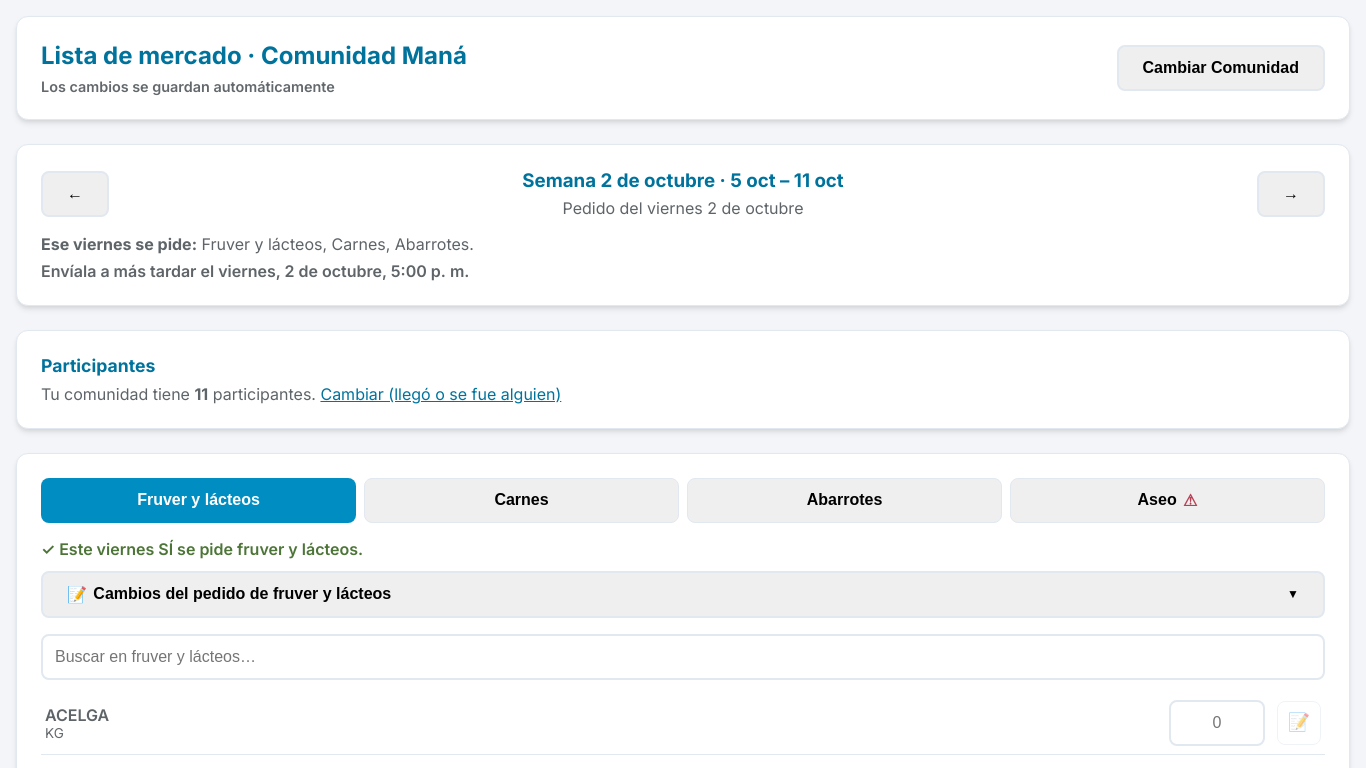
Test: lista de mercado: sin internet › si falla algo que repetir no arregla (validación), igual no queda reintentando para siempre
Type "2" into the field labelled "ACELGA KG" at (1217, 723), box [1169, 700, 1265, 746]
Wait 1800700 ms
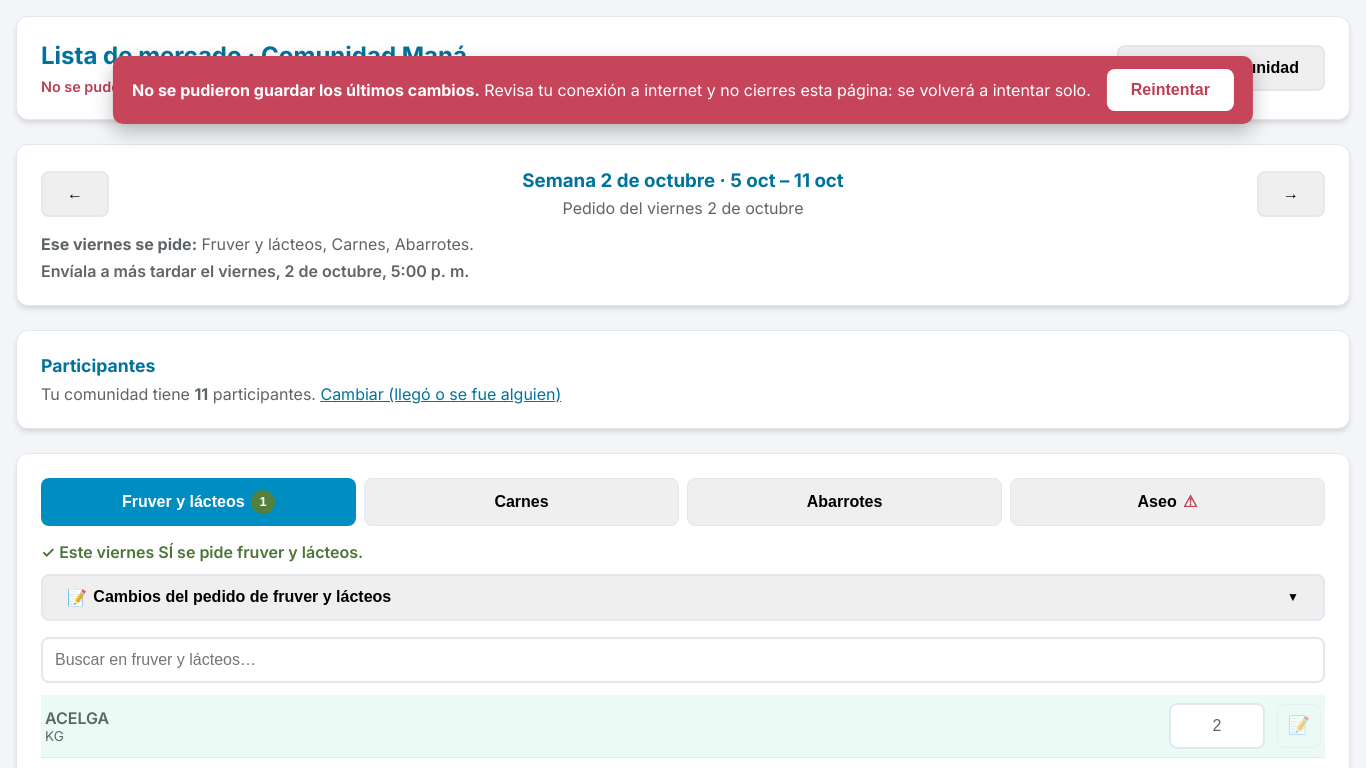
Expected: the text "No se pudo guardar" is shown, [41, 78, 178, 95]
